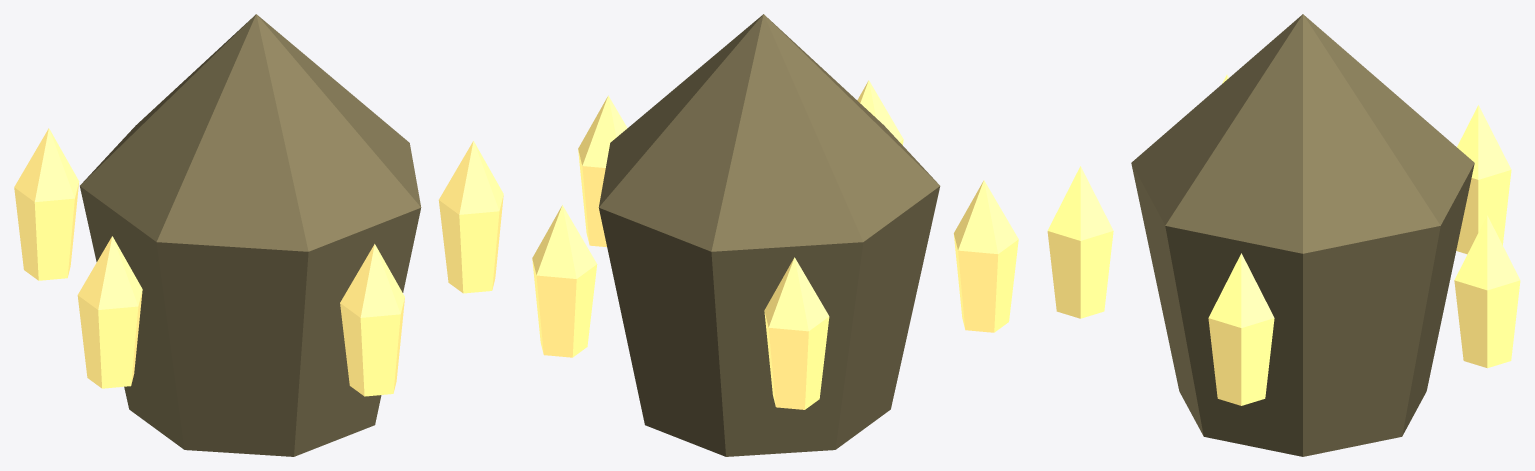
Rendered from deep-fracture-creature-AnnoyanceWisp-radiance.glb.
3 views of the same model, side by side, from view 1: azimuth 30°, elevation 25°; view 2: azimuth 150°, elevation 25°; view 3: azimuth 270°, elevation 25° (orthographic).
Parts seen in each view (by area): view 1: shell, orbit-shard-2, orbit-shard-3, orbit-shard-0, orbit-shard-1; view 2: shell, orbit-shard-3, orbit-shard-2, orbit-shard-4, orbit-shard-0, orbit-shard-1; view 3: shell, orbit-shard-0, orbit-shard-1, orbit-shard-4, orbit-shard-3.
Part boxes in pixels (box(x1,y1,x2,y2)): shell: box(80, 14, 421, 456); orbit-shard-2: box(77, 236, 142, 388); orbit-shard-3: box(14, 128, 79, 280); orbit-shard-0: box(438, 141, 503, 293); orbit-shard-1: box(340, 244, 404, 396); shell: box(598, 14, 940, 456); orbit-shard-3: box(764, 257, 829, 409); orbit-shard-2: box(953, 180, 1018, 332); orbit-shard-4: box(532, 205, 597, 357); orbit-shard-0: box(578, 95, 627, 247); orbit-shard-1: box(857, 80, 903, 145); shell: box(1131, 14, 1474, 456); orbit-shard-0: box(1208, 253, 1274, 405); orbit-shard-1: box(1047, 166, 1113, 318); orbit-shard-4: box(1454, 215, 1520, 368); orbit-shard-3: box(1456, 105, 1511, 254).
Bounding box in the file's own units: 1.05 × 0.9676 × 1.02.
